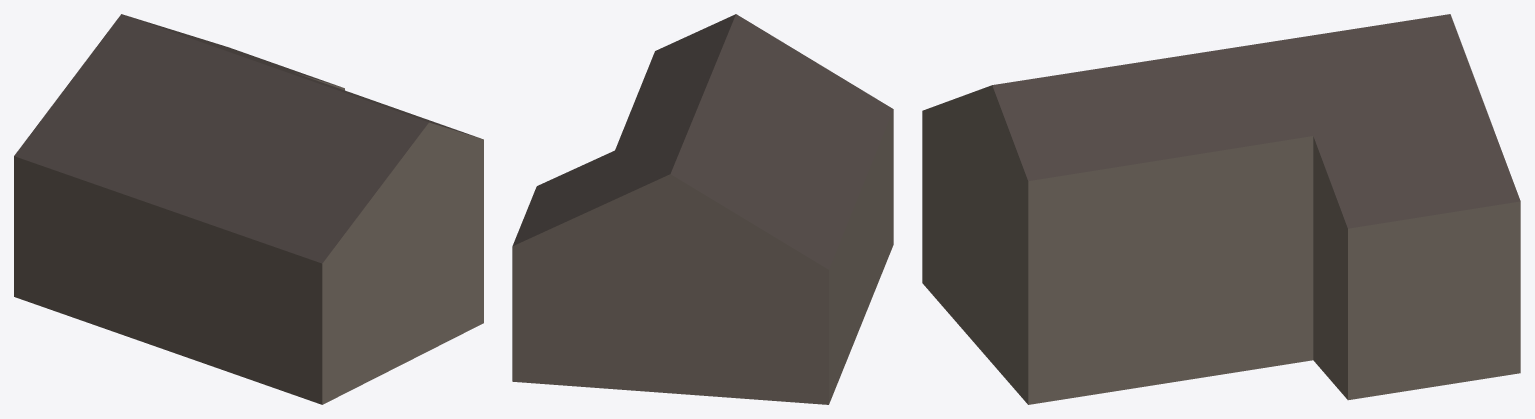
The picture shows the model from 3 angles, left to right: view 1: azimuth 30°, elevation 25°; view 2: azimuth 150°, elevation 25°; view 3: azimuth 270°, elevation 25°; orthographic projection. The views are drawn at different scales.
Parts seen in each view (by area): view 1: HP-w859467682; view 2: HP-w859467682; view 3: HP-w859467682.
Boxes of the visible parts, x1,y1,x2,y2 form: HP-w859467682: (14, 14, 483, 404); HP-w859467682: (512, 14, 893, 404); HP-w859467682: (922, 14, 1520, 404).
Size of the model in its own units: 14.52 by 9.74 by 18.97.
